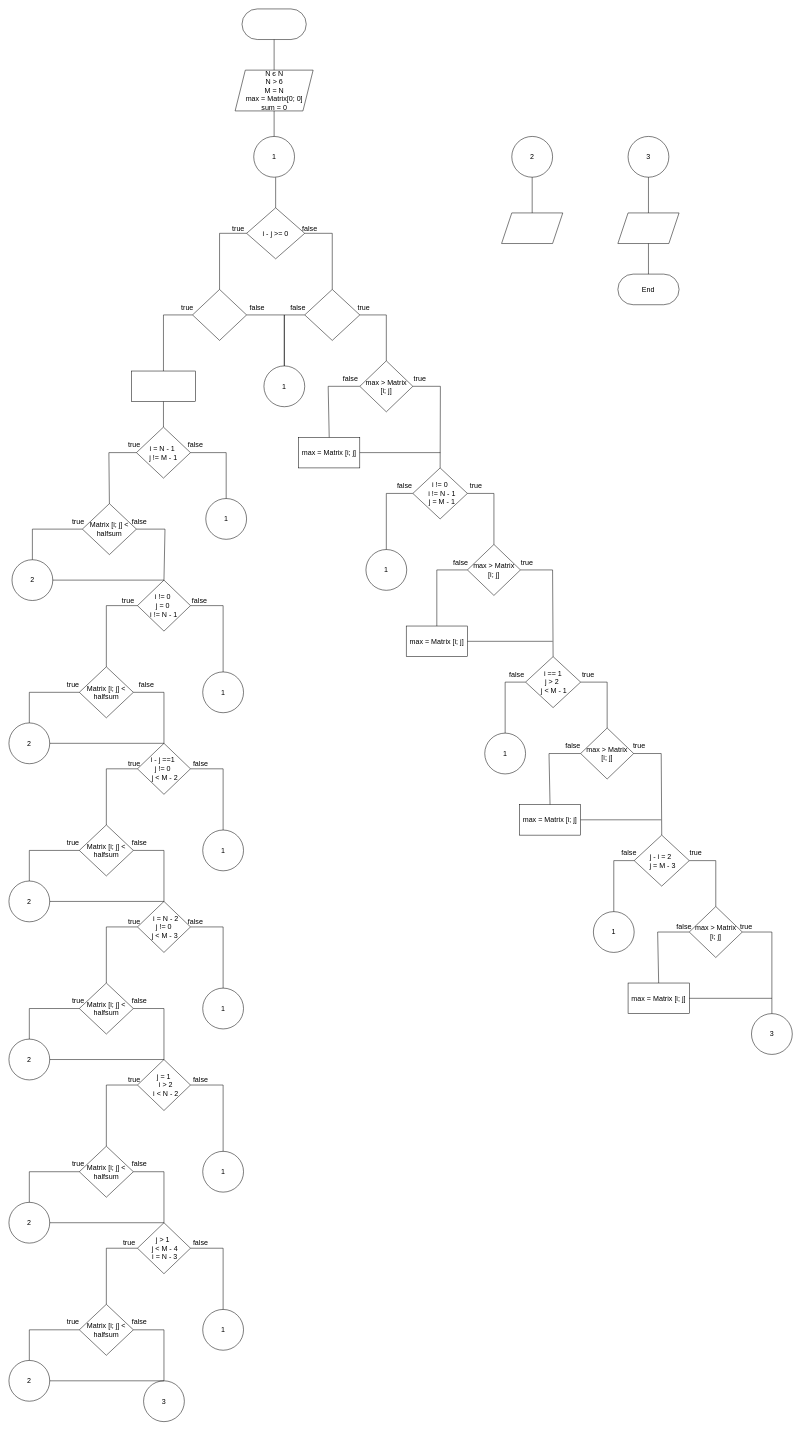
Image size: 801x1431. Some labels were removed from this diagram. Each missing label, with the centre of its shape:
"i - j = 0" belongs at point (219, 314).
"i = 0 j != 0" belongs at point (332, 314).
"Matrix[i; j]" belongs at point (532, 228).
"max" belongs at point (648, 228).
"Start" belongs at point (273, 24).
"sum += Matrix[i, j] halfsum = sum / 2;" belongs at point (163, 386).
